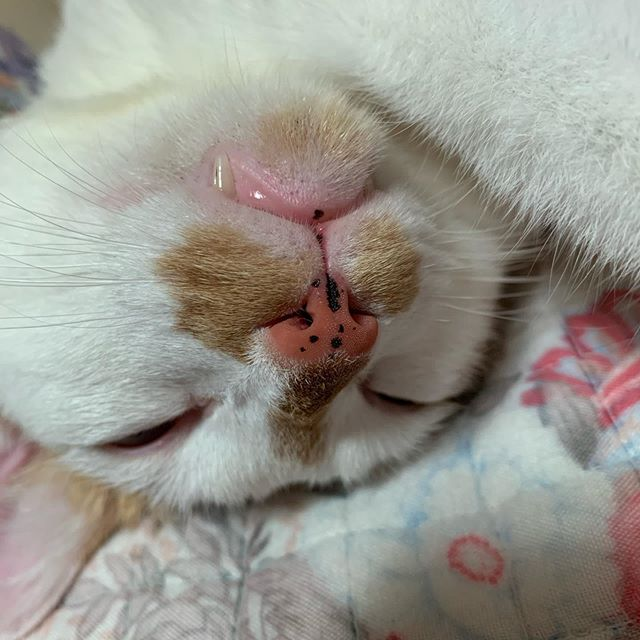cat: (3, 67, 510, 488)
